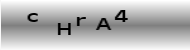4: (114, 9, 129, 23)
A: (95, 17, 111, 31)
H: (55, 22, 72, 36)
c: (25, 12, 40, 23)
r: (76, 16, 87, 27)
